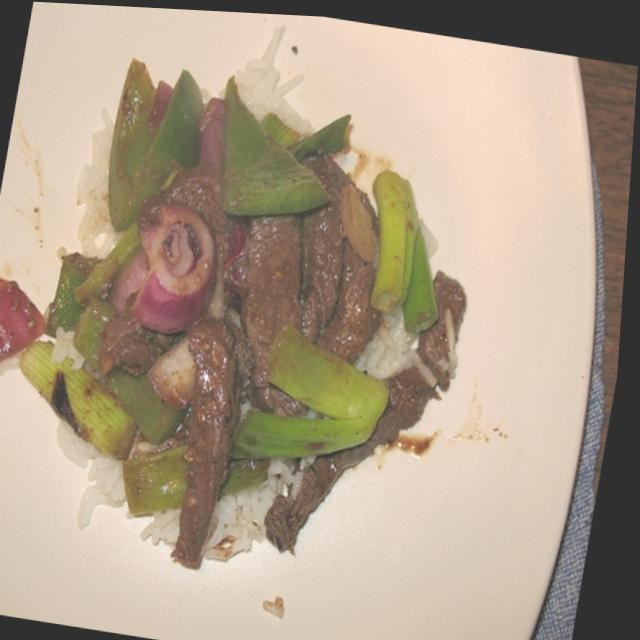牛肉菜式: (0, 0, 558, 608)
